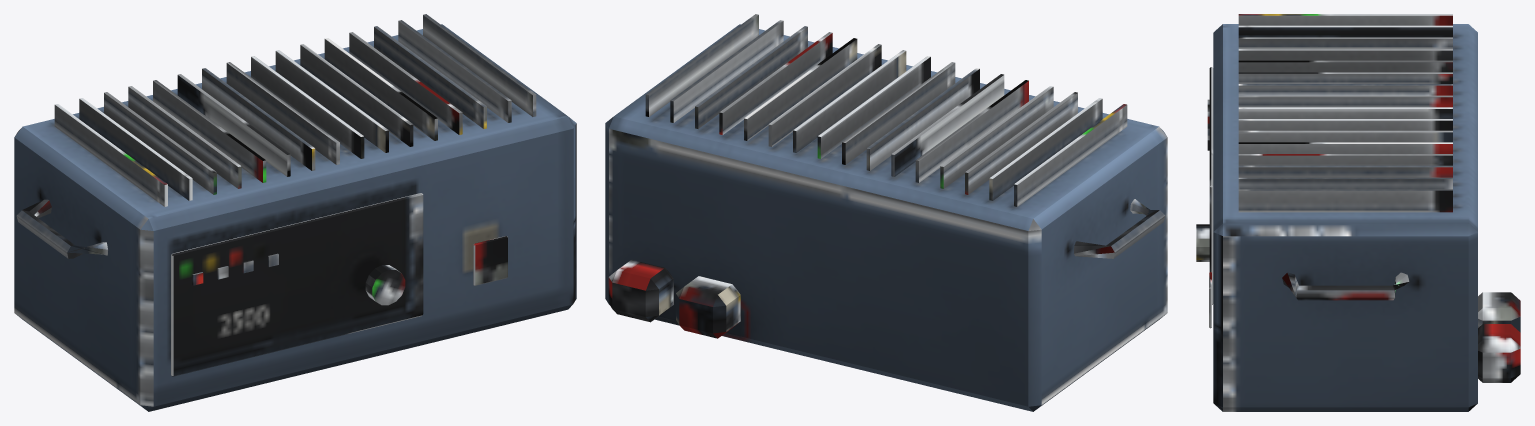
The model's file is RenewableEnergy_InverterCharger.fbx.
3 views of the same model, side by side, from view 1: azimuth 30°, elevation 25°; view 2: azimuth 150°, elevation 25°; view 3: azimuth 270°, elevation 25° (orthographic). The views are drawn at different scales.
Parts seen in each view (by area): view 1: InverterCharger; view 2: InverterCharger; view 3: InverterCharger.
Part boxes in pixels (left/top/right/bottom): InverterCharger: left=14, top=14, right=576, bottom=411; InverterCharger: left=605, top=14, right=1167, bottom=411; InverterCharger: left=1196, top=14, right=1520, bottom=411.
Bounding box in the file's own units: 0.6046 × 0.245 × 0.343.
